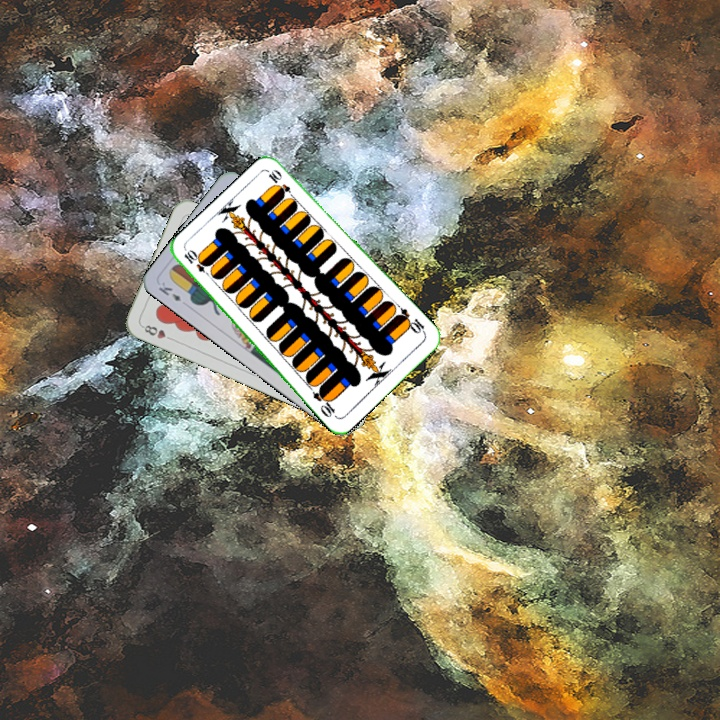E10: (180, 246, 214, 280), (393, 304, 428, 337)
EK: (154, 278, 184, 304)
H8: (138, 321, 177, 343)
